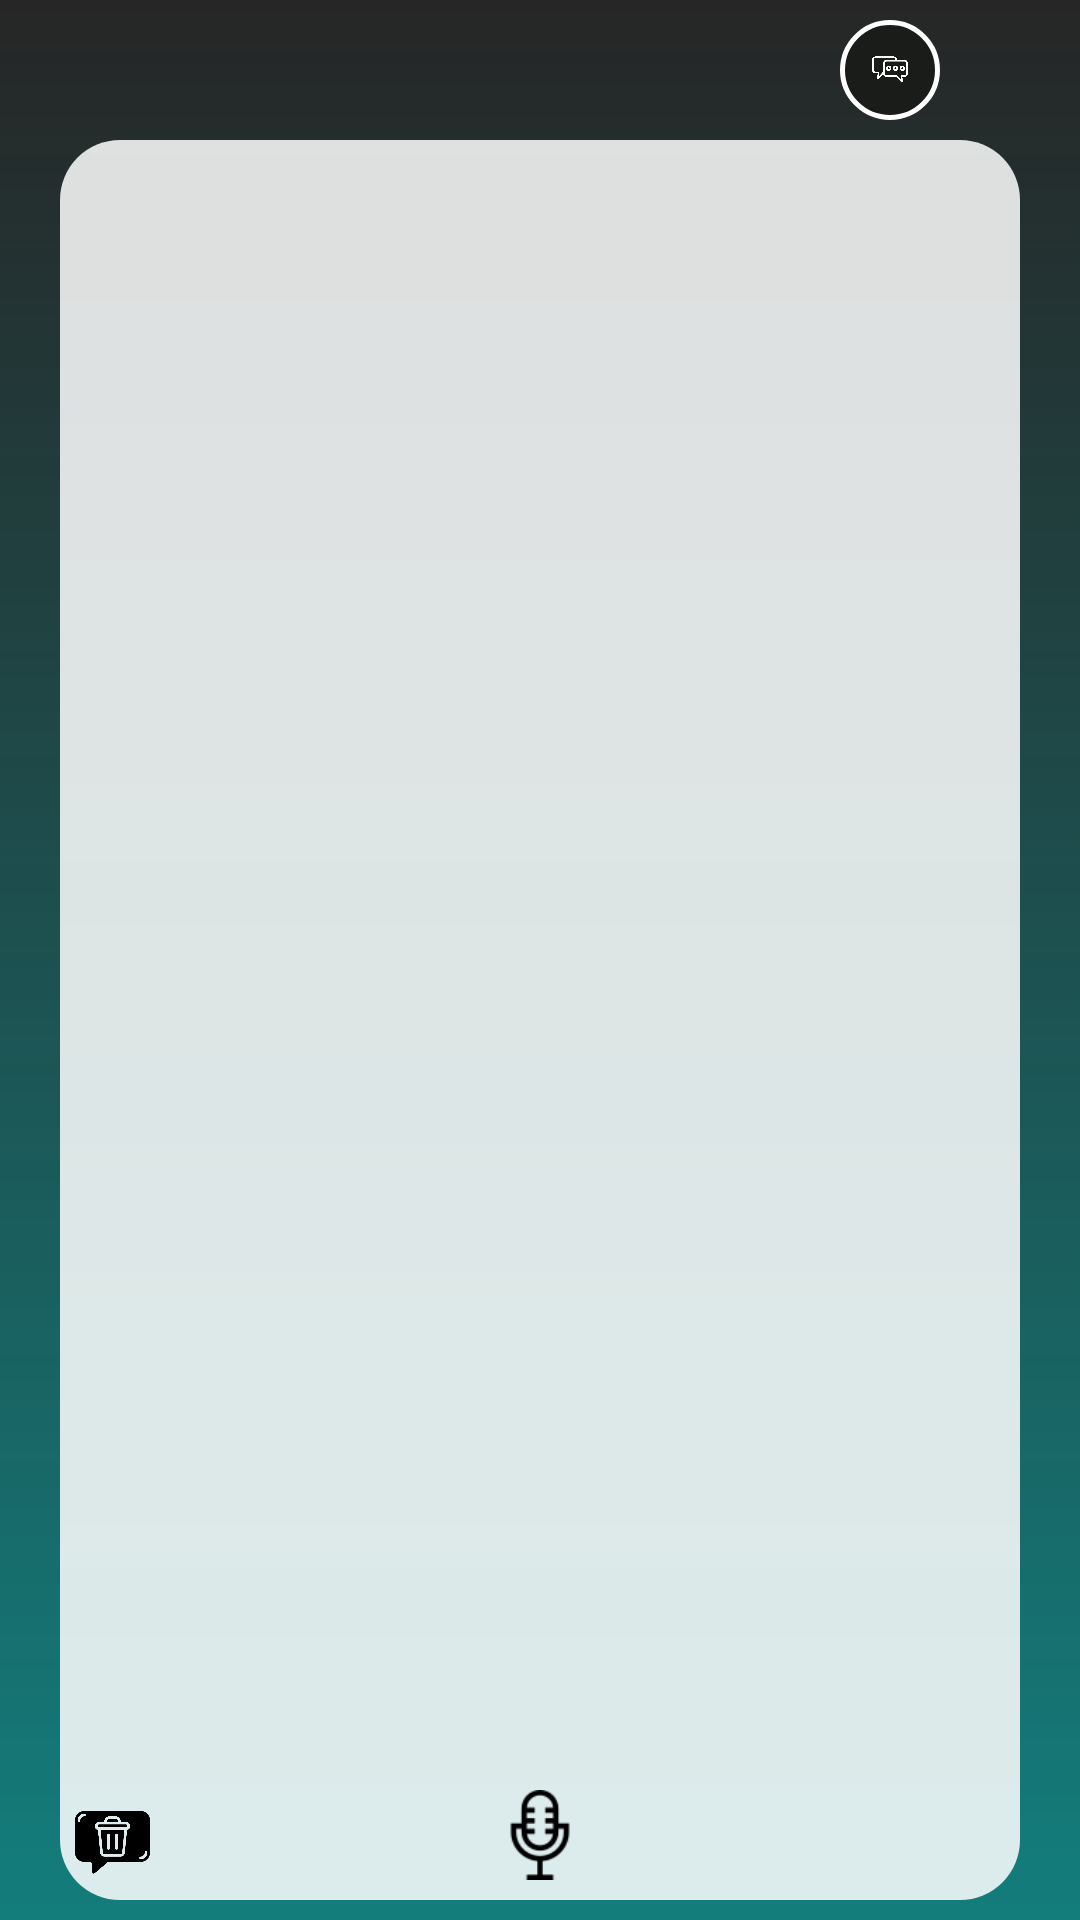

Icons on this 1080px x 1920px Android screen, each with its box as (x1, y1, x2, y2):
chat: (872, 56, 908, 82)
clear conversation: (75, 1811, 150, 1874)
